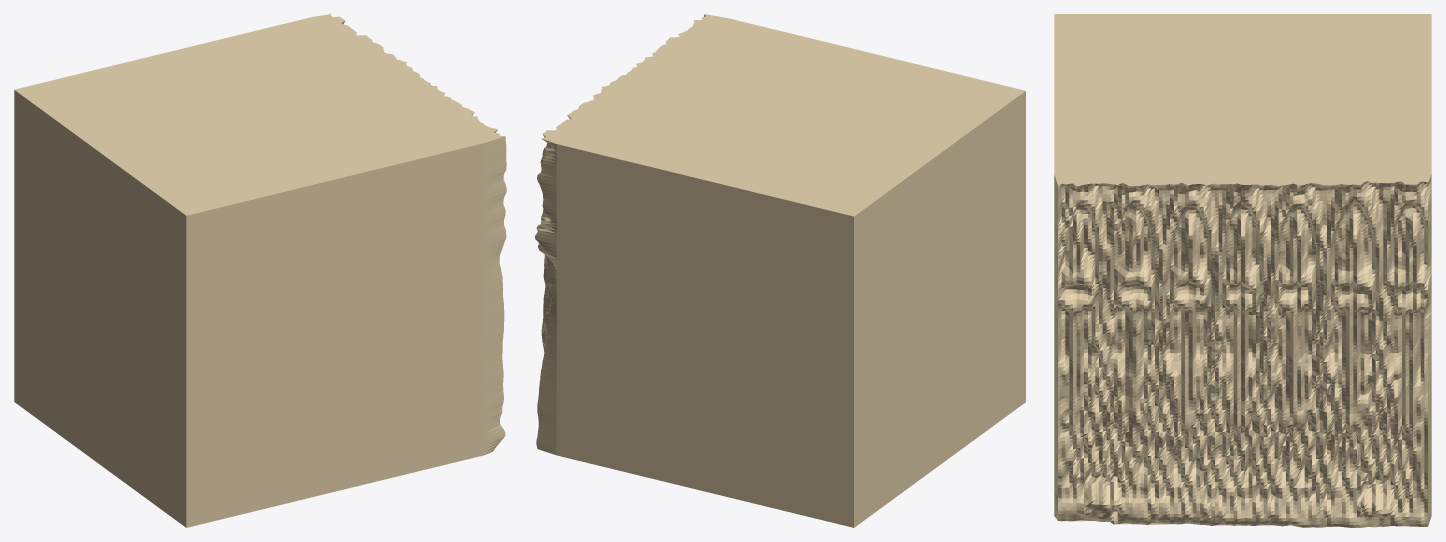
Rendered from top6.png.obj.
3 renders of one model, left to right at view 1: azimuth 30°, elevation 25°; view 2: azimuth 150°, elevation 25°; view 3: azimuth 270°, elevation 25°, orthographic. The views are drawn at different scales.
Parts seen in each view (by area): view 1: Cube; view 2: Cube; view 3: Cube.
Part boxes in pixels (box(x1,y1,x2,y2)): Cube: box(14, 14, 506, 527); Cube: box(535, 14, 1025, 527); Cube: box(1054, 14, 1431, 527).
Size of the model in its own units: 1.1 by 1 by 1.
